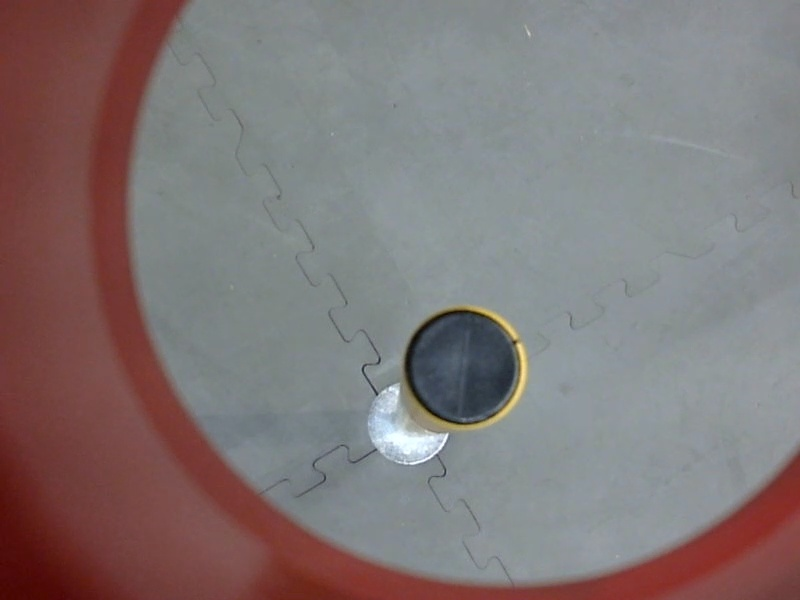tip: (398, 298, 535, 438)
